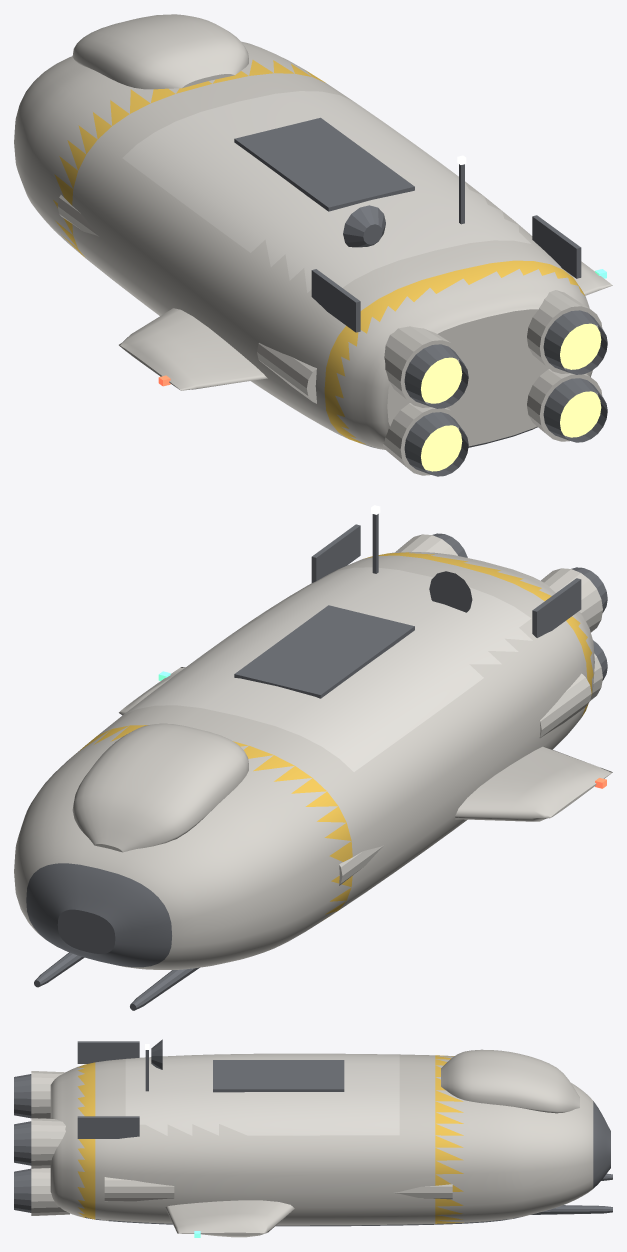
File: atlas.glb
3 views of the same model, one above another, from view 1: azimuth 30°, elevation 25°; view 2: azimuth 150°, elevation 25°; view 3: azimuth 270°, elevation 25° (orthographic). The views are drawn at different scales.
Visible parts, largest first — view 1: Atlas_Hull; view 2: Atlas_Hull; view 3: Atlas_Hull.
Part boxes in pixels (box(x1,y1,x2,y2)): Atlas_Hull: box(14, 14, 612, 476); Atlas_Hull: box(14, 505, 612, 1010); Atlas_Hull: box(14, 1039, 612, 1237).
Bounding box in the file's own units: 9.26 × 4.91 × 15.5.
